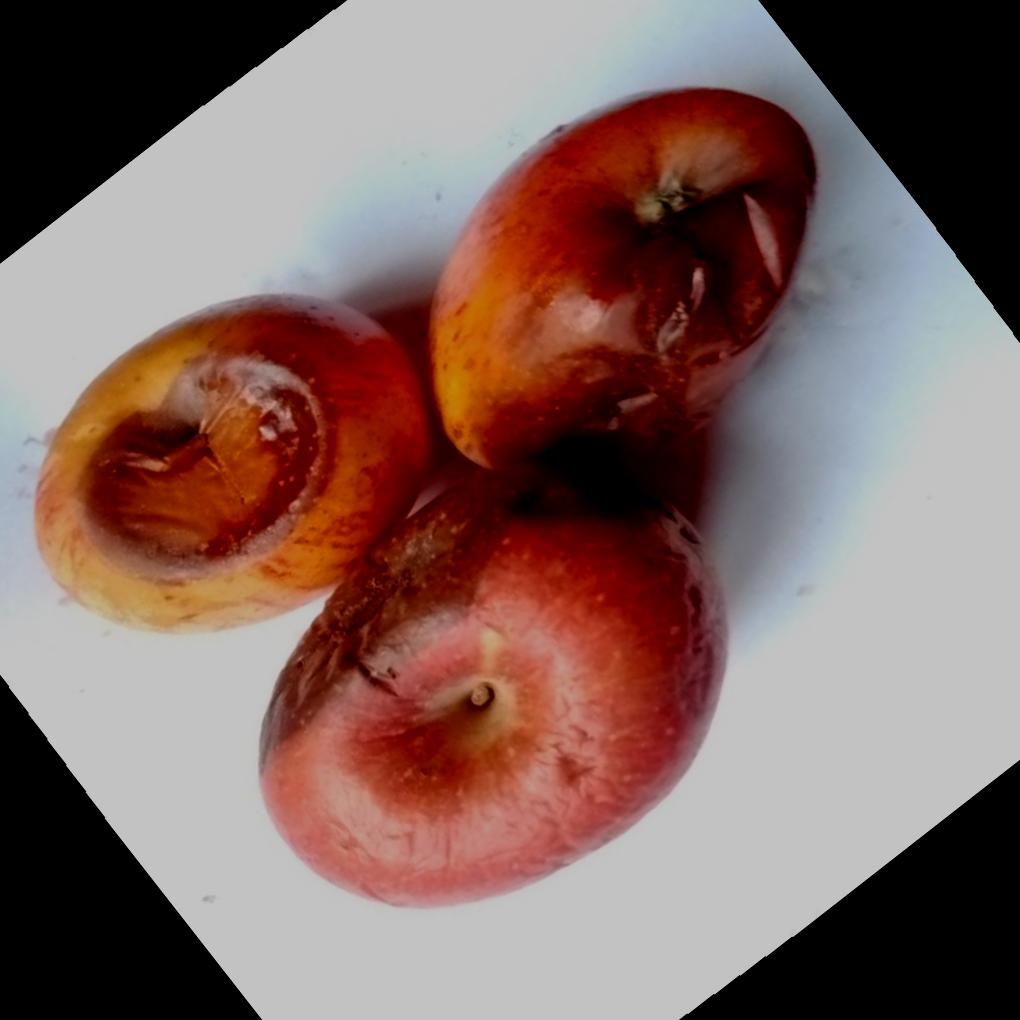FreshOrange: (26, 84, 814, 909)
